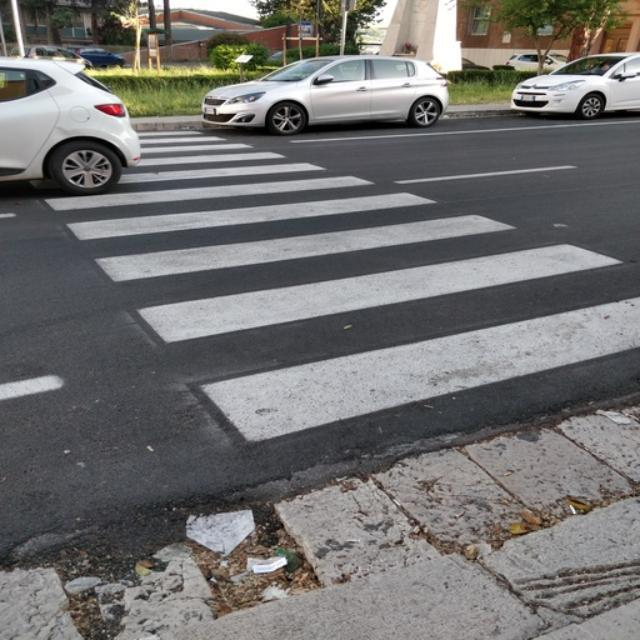sidewalk: (46, 133, 639, 450)
